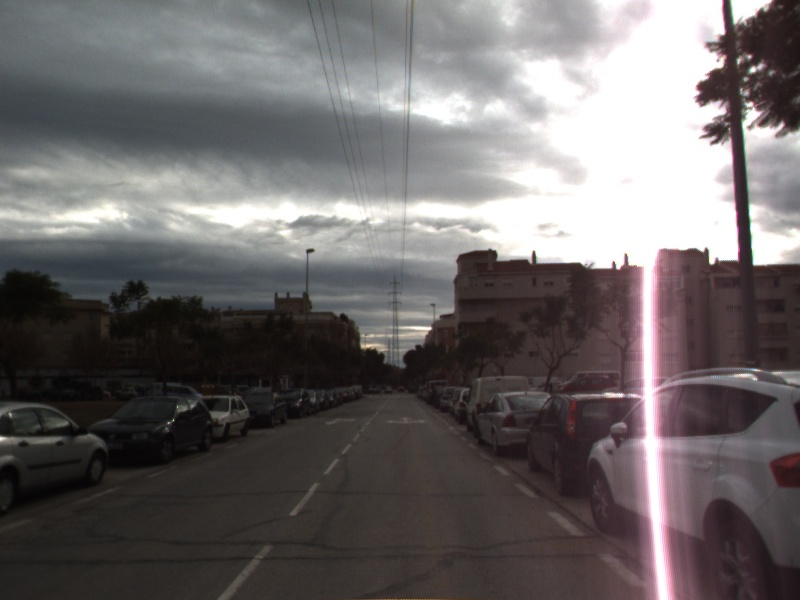STRAIGHT_LEFT_RIGHT: (384, 414, 429, 426)
